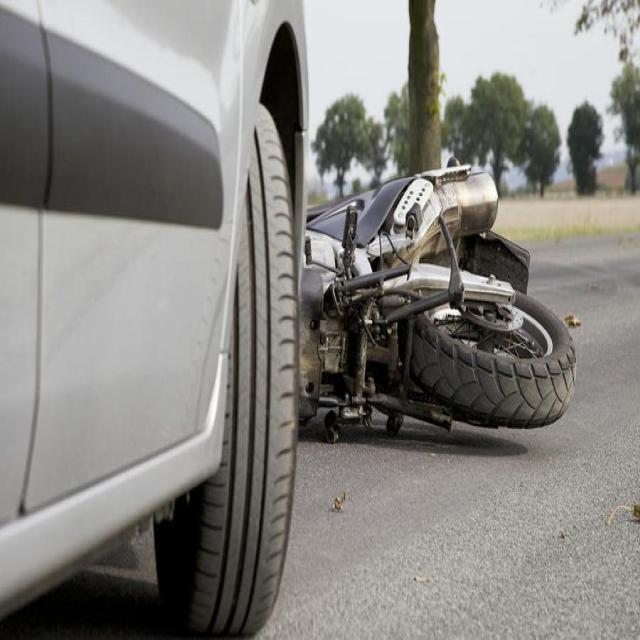accident: (299, 160, 576, 442)
